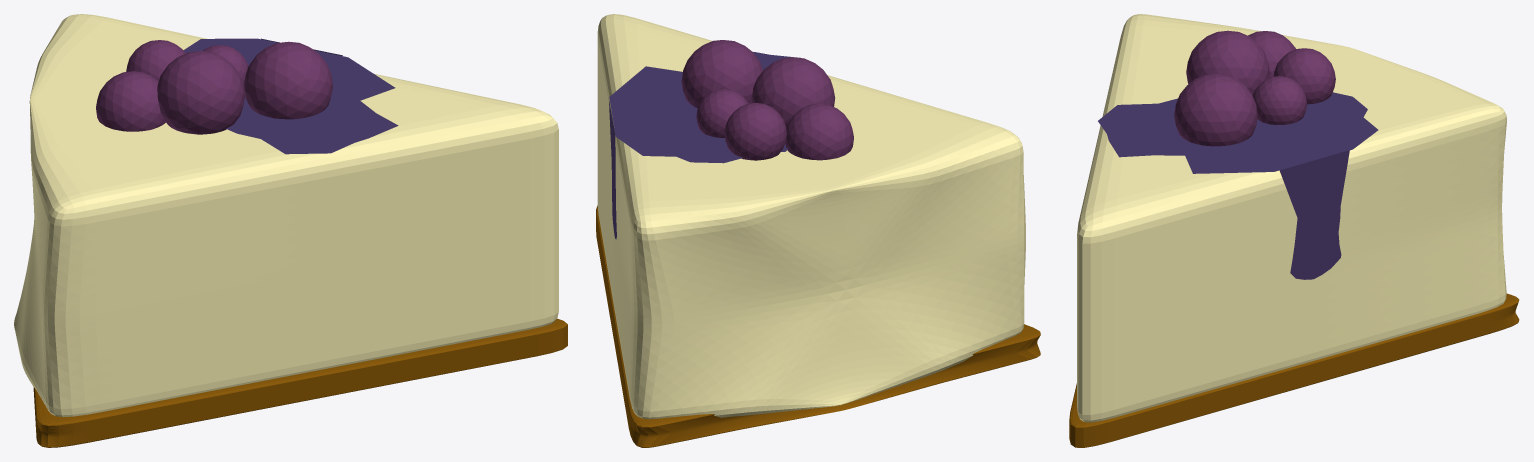
Rendered from fengyiny.dae.
3 renders of one model, left to right at view 1: azimuth 30°, elevation 25°; view 2: azimuth 150°, elevation 25°; view 3: azimuth 270°, elevation 25°, orthographic. The views are drawn at different scales.
Parts seen in each view (by area): view 1: main-S3D-13-FLIPPED, button-S3D-14-FLIPPED, liquid_top-S3D-23, blueberries3-S3D-20, blueberries5-S3D-22, blueberries2-S3D-19, blueberries1-S3D-18, blueberries4-S3D-21; view 2: main-S3D-13-FLIPPED, button-S3D-14-FLIPPED, liquid_top-S3D-23, blueberries5-S3D-22, blueberries3-S3D-20, blueberries2-S3D-19, blueberries1-S3D-18, blueberries4-S3D-21, liquid_side-S3D-24; view 3: main-S3D-13-FLIPPED, liquid_top-S3D-23, button-S3D-14-FLIPPED, liquid_side-S3D-24, blueberries5-S3D-22, blueberries3-S3D-20, blueberries1-S3D-18, blueberries4-S3D-21, blueberries2-S3D-19.
Part boxes in pixels (x1,y1,x2,y2): main-S3D-13-FLIPPED: (14,14,558,417); button-S3D-14-FLIPPED: (33,318,567,447); liquid_top-S3D-23: (183,38,398,154); blueberries3-S3D-20: (157,51,245,134); blueberries5-S3D-22: (244,41,332,119); blueberries2-S3D-19: (96,71,165,131); blueberries1-S3D-18: (126,40,185,81); blueberries4-S3D-21: (203,45,248,84); main-S3D-13-FLIPPED: (597,14,1025,419); button-S3D-14-FLIPPED: (596,205,1040,447); liquid_top-S3D-23: (609,52,800,163); blueberries5-S3D-22: (681,40,762,107); blueberries3-S3D-20: (751,57,835,127); blueberries2-S3D-19: (785,103,853,160); blueberries1-S3D-18: (724,103,786,160); blueberries4-S3D-21: (696,89,748,137); liquid_side-S3D-24: (609,101,616,239); main-S3D-13-FLIPPED: (1077,14,1506,422); liquid_top-S3D-23: (1098,92,1378,173); button-S3D-14-FLIPPED: (1069,293,1519,447); liquid_side-S3D-24: (1279,150,1349,279); blueberries5-S3D-22: (1174,73,1257,146); blueberries3-S3D-20: (1186,30,1269,95); blueberries1-S3D-18: (1273,48,1335,104); blueberries4-S3D-21: (1253,76,1306,124); blueberries2-S3D-19: (1248,31,1295,77).
Size of what is drawn, in the model's own units: 2.32 by 1.35 by 1.93.
